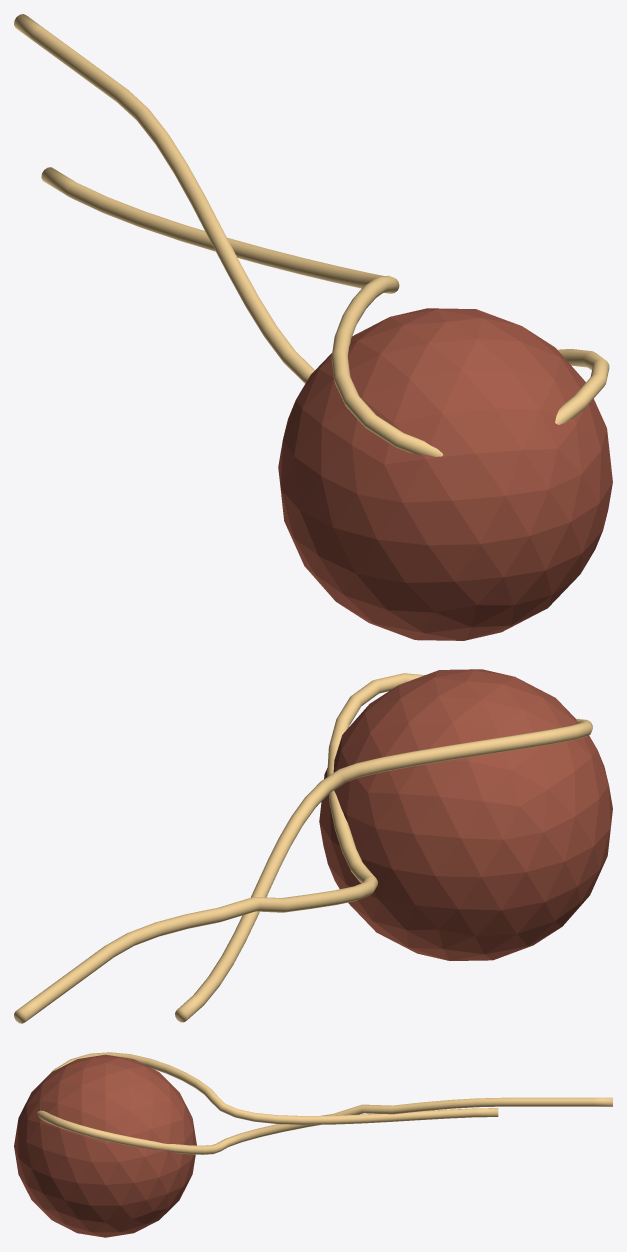
Rendered from Meatball Fat Noodles.fbx.
3 views of the same model, one above another, from view 1: azimuth 30°, elevation 25°; view 2: azimuth 150°, elevation 25°; view 3: azimuth 270°, elevation 25° (orthographic). The views are drawn at different scales.
Parts seen in each view (by area): view 1: Meatball.001, Fat Noodle.001, Fat Noodle; view 2: Meatball.001, Fat Noodle.001, Fat Noodle; view 3: Meatball.001, Fat Noodle.001, Fat Noodle.
Part boxes in pixels (x1,y1,x2,y2): Meatball.001: [278, 308, 612, 640]; Fat Noodle.001: [14, 14, 609, 424]; Fat Noodle: [41, 167, 442, 456]; Meatball.001: [319, 669, 612, 960]; Fat Noodle.001: [14, 673, 424, 1023]; Fat Noodle: [175, 718, 592, 1022]; Meatball.001: [14, 1054, 196, 1237]; Fat Noodle.001: [37, 1097, 612, 1154]; Fat Noodle: [52, 1052, 498, 1124].
Bounding box in the file's own units: 200 × 200 × 654.
